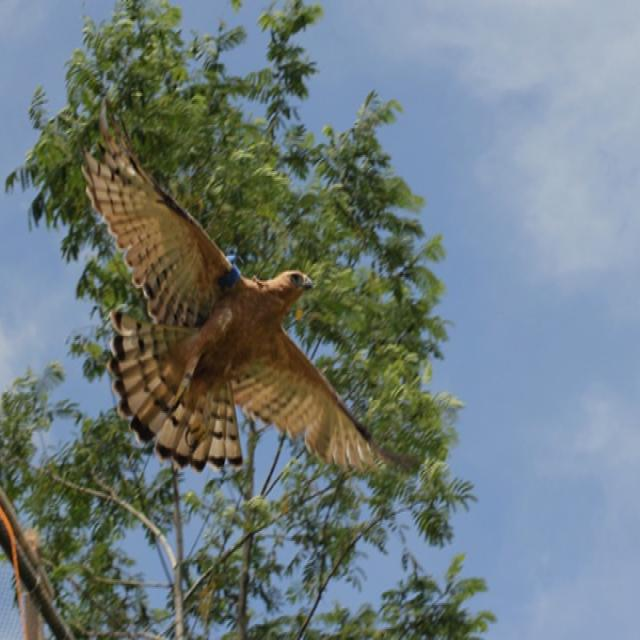Elang Jawa: (56, 101, 389, 508)
